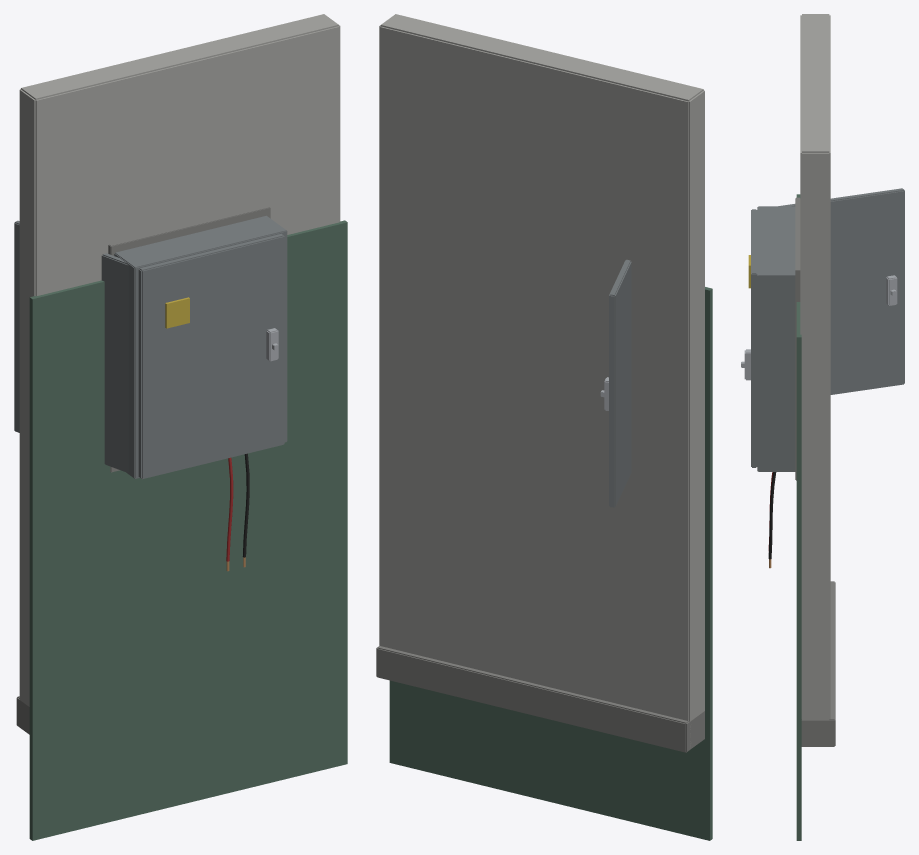
File: panel_electric.glb
The picture shows the model from 3 angles, left to right: view 1: azimuth 30°, elevation 25°; view 2: azimuth 150°, elevation 25°; view 3: azimuth 270°, elevation 25°; orthographic projection. The views are drawn at different scales.
Parts seen in each view (by area): view 1: paint_band, wall, door_closed_leaf, door_anim_leaf, cab_top, cab_l, frame_back, cab_r, door_closed_sign; view 2: wall, paint_band, skirting, door_anim_leaf; view 3: wall, door_anim_leaf, cab_r, paint_band, cab_top, door_closed_leaf, skirting, frame_back.
Part boxes in pixels (x1,y1,x2,y2): paint_band: (29, 220, 347, 840); wall: (19, 14, 340, 706); door_closed_leaf: (138, 233, 284, 479); door_anim_leaf: (14, 220, 128, 472); cab_top: (121, 217, 283, 268); cab_l: (114, 251, 140, 478); frame_back: (108, 205, 270, 472); cab_r: (261, 215, 287, 442); door_closed_sign: (165, 297, 189, 328); wall: (379, 14, 704, 746); paint_band: (389, 287, 712, 840); skirting: (376, 645, 704, 752); door_anim_leaf: (609, 259, 631, 507); wall: (800, 14, 830, 720); door_anim_leaf: (778, 188, 904, 394); cab_r: (757, 272, 795, 471); paint_band: (796, 194, 801, 840); cab_top: (757, 209, 795, 273); door_closed_leaf: (751, 209, 757, 467); skirting: (801, 581, 835, 746); frame_back: (795, 197, 800, 480).
Size of what is drawn, in the model's own units: 1.34 by 3 by 0.649.
